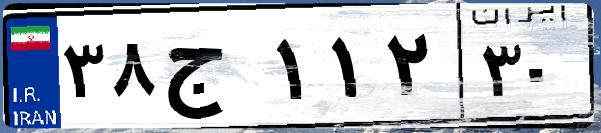0: (525, 38, 570, 115)
1: (270, 28, 330, 110), (330, 28, 385, 110)
2: (385, 28, 445, 110)
3: (57, 26, 110, 100), (475, 38, 525, 113)
8: (110, 28, 158, 98)
ج: (158, 20, 270, 120)
